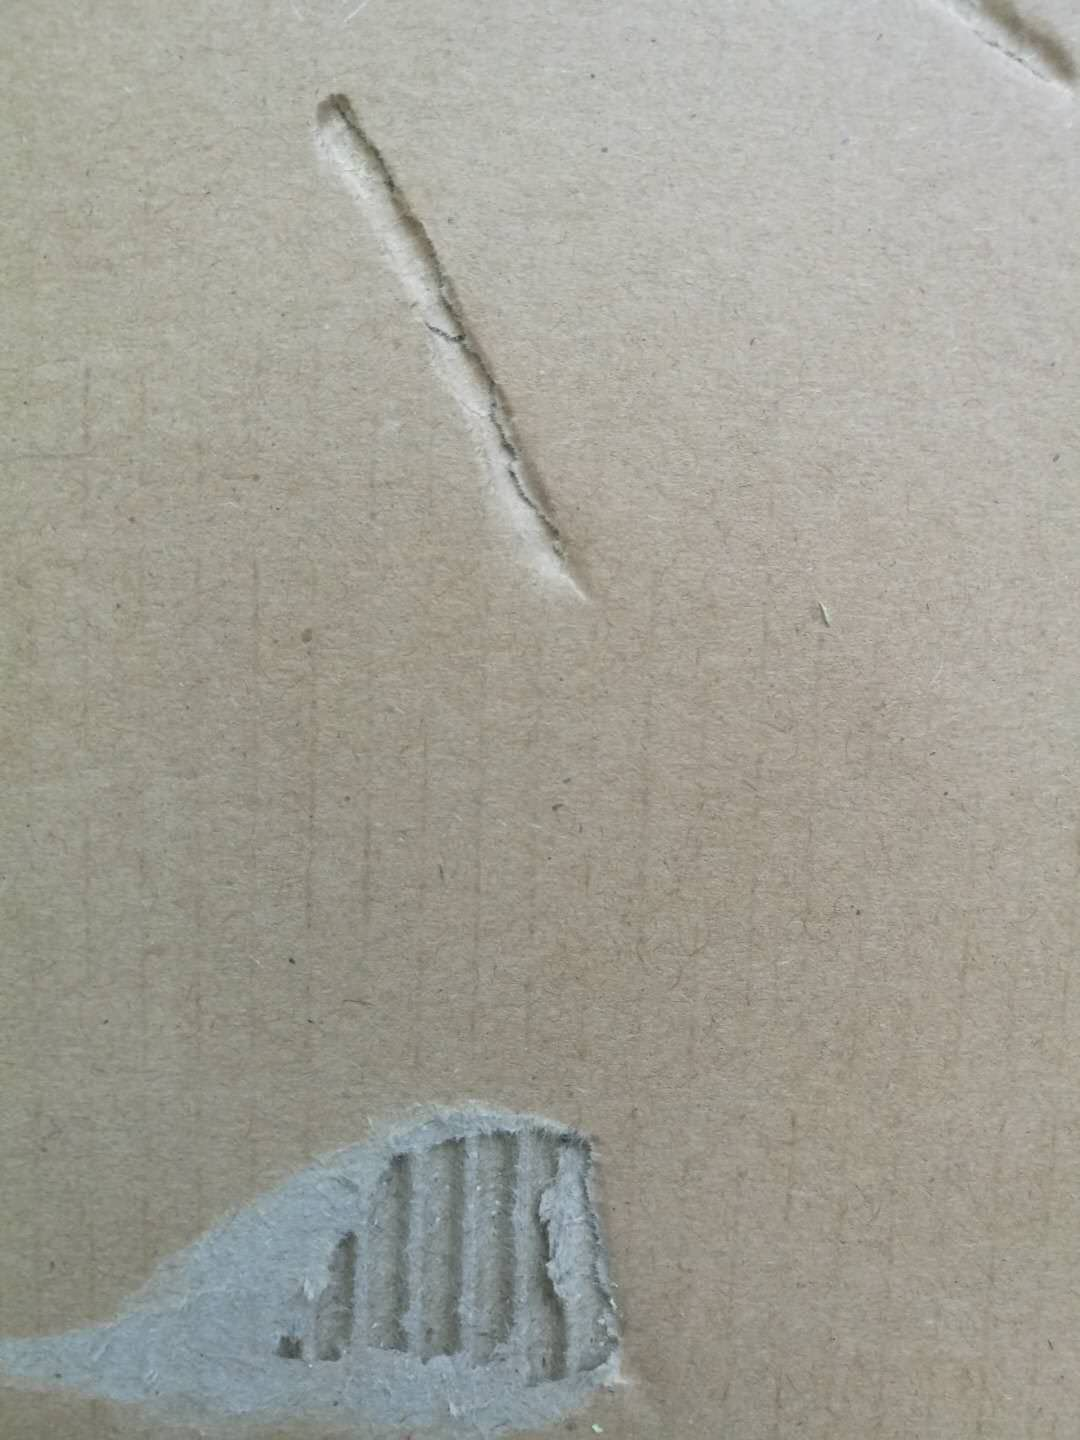defect: (3, 1073, 717, 1440), (285, 67, 634, 639), (919, 2, 1080, 115)
